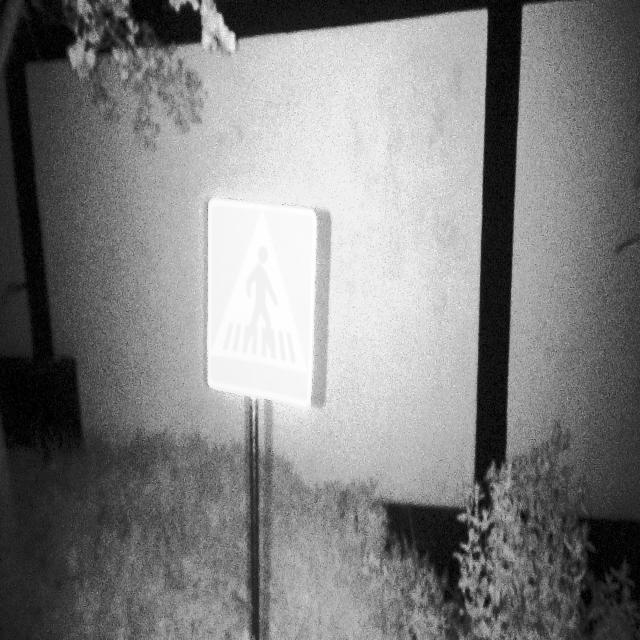Sign: (205, 195, 319, 413)
